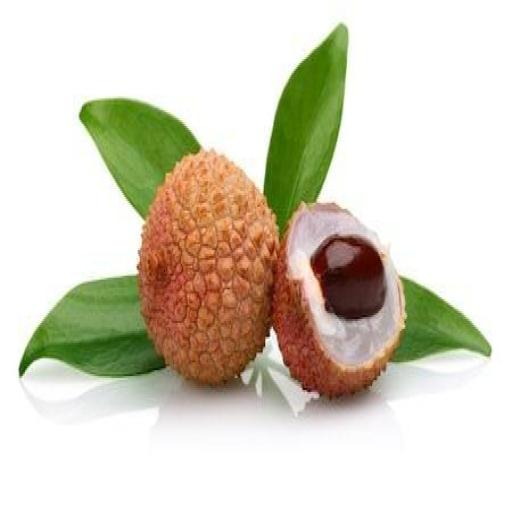lychee: (138, 150, 278, 383), (274, 203, 405, 397)
